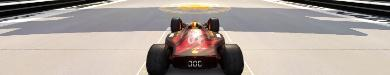Car: (145, 16, 244, 74)
